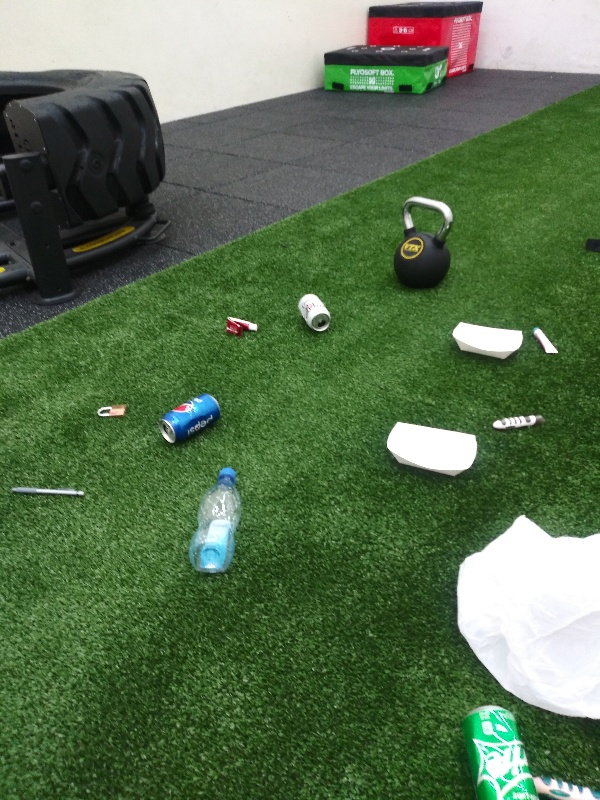bottle: (186, 464, 247, 576)
can: (454, 701, 542, 800), (153, 391, 227, 445), (294, 287, 335, 334)
plate: (381, 417, 482, 478), (448, 315, 527, 361)
